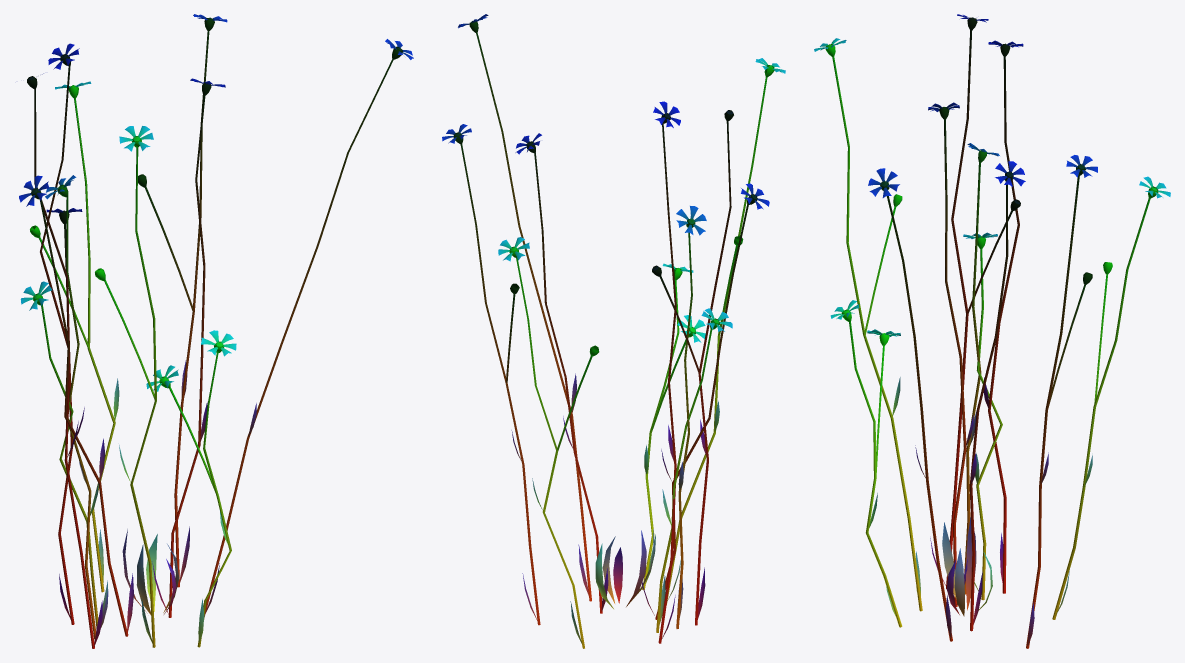
The model's file is SM_Flower_Cornflower_B_LOD1.fbx.
3 renders of one model, left to right at view 1: azimuth 30°, elevation 25°; view 2: azimuth 150°, elevation 25°; view 3: azimuth 270°, elevation 25°, orthographic. The views are drawn at different scales.
Visible parts, largest first — view 1: SM_Flower_Cornflower_B_LOD1; view 2: SM_Flower_Cornflower_B_LOD1; view 3: SM_Flower_Cornflower_B_LOD1.
Part boxes in pixels (x1,y1,x2,y2): SM_Flower_Cornflower_B_LOD1: (19,14,413,648); SM_Flower_Cornflower_B_LOD1: (442,14,785,648); SM_Flower_Cornflower_B_LOD1: (814,14,1170,648).
Bounding box in the file's own units: 0.4478 × 0.6907 × 0.403.
